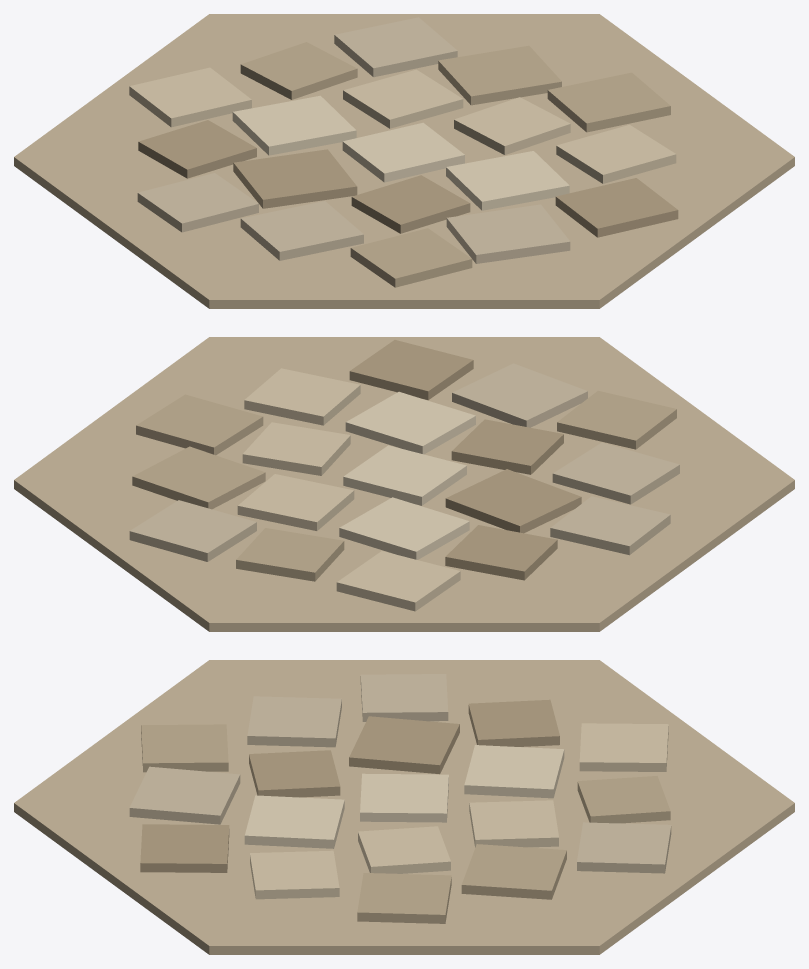
File: a-plaza-stone.glb
3 views of the same model, one above another, from view 1: azimuth 30°, elevation 25°; view 2: azimuth 150°, elevation 25°; view 3: azimuth 270°, elevation 25° (orthographic).
Parts seen in each view (by area): view 1: a-plaza-stone; view 2: a-plaza-stone; view 3: a-plaza-stone.
Boxes of the visible parts, x1,y1,x2,y2 form: a-plaza-stone: (14,14,794,308); a-plaza-stone: (14,337,794,631); a-plaza-stone: (14,660,794,954).
Bounding box in the file's own units: 2.04 × 0.06 × 2.36.
